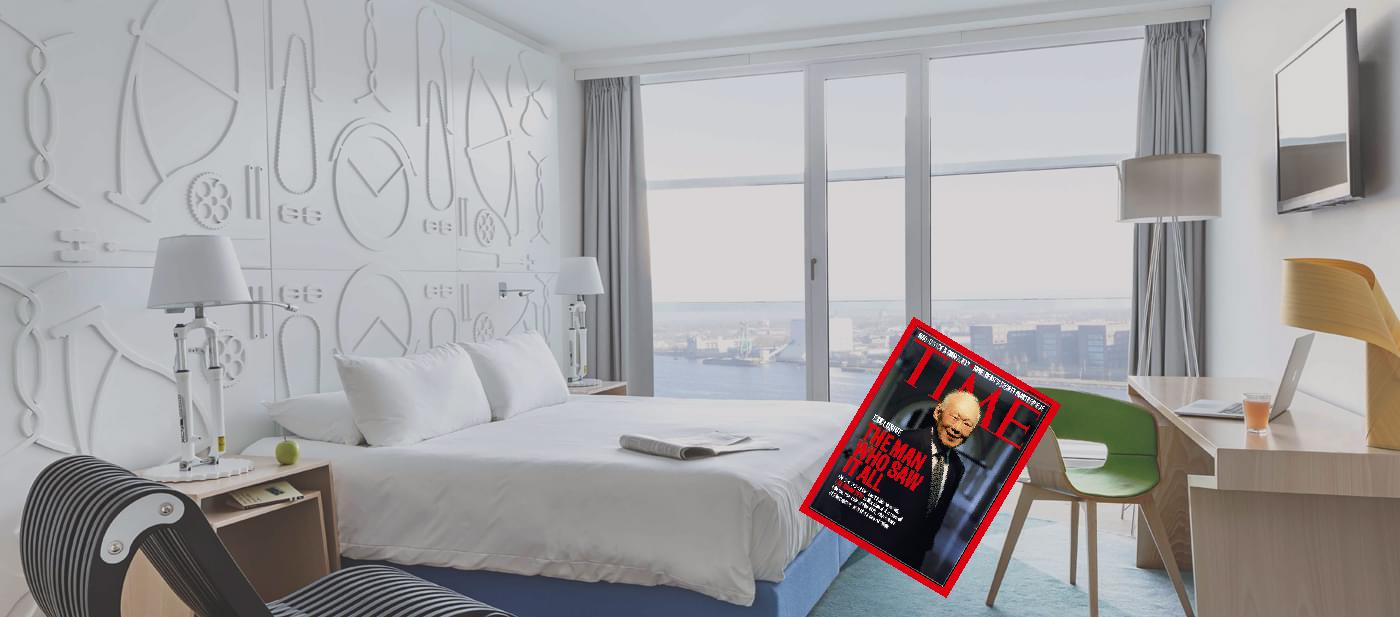times: (797, 312, 1062, 602)
